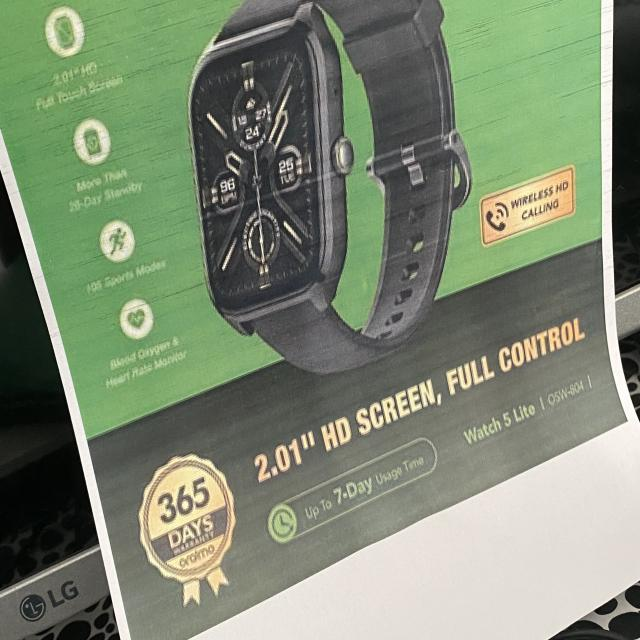Watch 5 Lite OSW-804: (458, 368, 598, 451)
